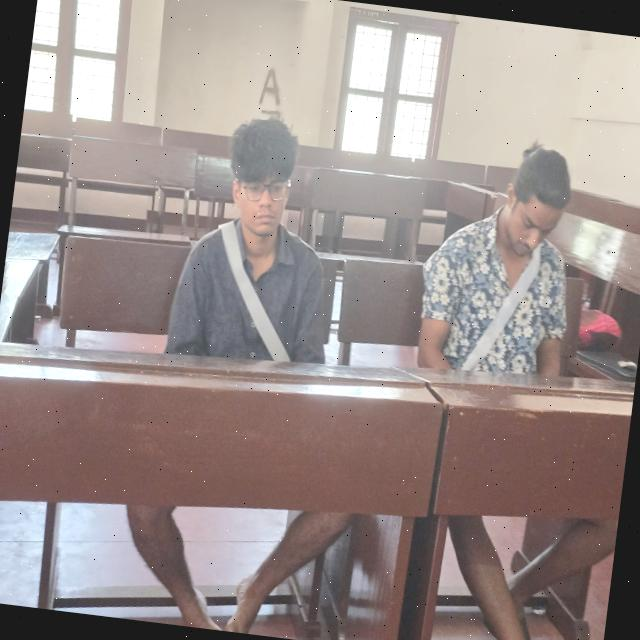seatbelt: (176, 222, 320, 374), (429, 235, 570, 376)
